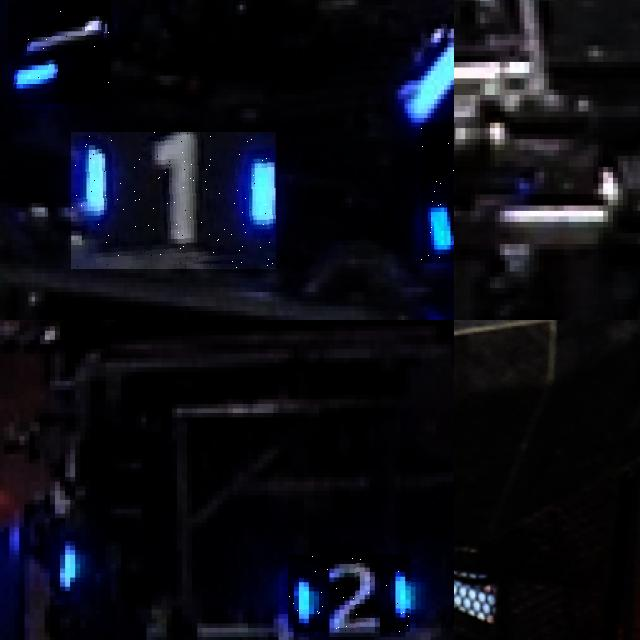B1: (71, 132, 276, 269), (8, 0, 110, 104), (421, 122, 454, 263)
B2: (288, 555, 411, 632)
